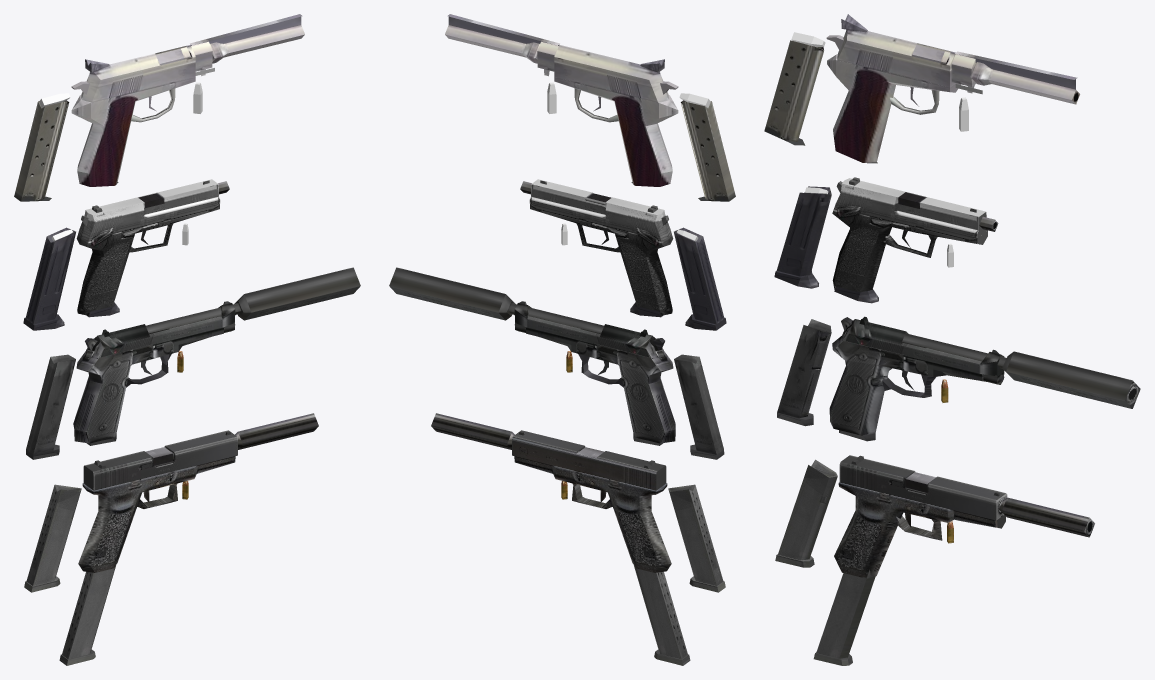
3 views of the same model, side by side, from view 1: azimuth 30°, elevation 25°; view 2: azimuth 150°, elevation 25°; view 3: azimuth 330°, elevation 25° (orthographic). The views are drawn at different scales.
Parts seen in each view (by area): view 1: HCBody, Body, GlockBody&Barrle&Trigger, USPBody, GlockSlide, HCSlide, USPSlide, HCMagFull, Supressor.001, USPMagFull, GlockMagazine`, Magazine (+3 smaller); view 2: HCBody, Body, GlockBody&Barrle&Trigger, USPBody, GlockSlide, HCSlide, USPSlide, HCMagFull, Supressor.001, USPMagFull, GlockMagazine`, Magazine (+3 smaller); view 3: HCBody, Body, GlockBody&Barrle&Trigger, USPBody, GlockSlide, USPSlide, HCSlide, HCMagFull, Supressor.001, USPMagFull, GlockMagazine`, Magazine (+3 smaller).
Boxes of the visible parts, <box> form: HCBody: <box>71,14,304,186</box>; Body: <box>73,303,240,443</box>; GlockBody&Barrle&Trigger: <box>78,447,235,572</box>; USPBody: <box>76,181,229,315</box>; GlockSlide: <box>83,430,237,490</box>; HCSlide: <box>81,44,195,102</box>; USPSlide: <box>80,179,220,234</box>; HCMagFull: <box>14,93,70,201</box>; Supressor.001: <box>234,267,360,320</box>; USPMagFull: <box>23,227,76,330</box>; GlockMagazine`: <box>24,484,81,592</box>; Magazine: <box>26,354,75,459</box>; HCBody: <box>445,14,678,186</box>; Body: <box>509,303,675,443</box>; GlockBody&Barrle&Trigger: <box>514,447,671,572</box>; USPBody: <box>520,181,673,315</box>; GlockSlide: <box>512,430,666,490</box>; HCSlide: <box>554,44,668,102</box>; USPSlide: <box>529,179,669,234</box>; HCMagFull: <box>679,93,735,201</box>; Supressor.001: <box>389,267,515,320</box>; USPMagFull: <box>673,227,726,330</box>; GlockMagazine`: <box>668,484,725,592</box>; Magazine: <box>674,354,724,459</box>; HCBody: <box>827,44,1079,162</box>; Body: <box>829,333,1006,435</box>; GlockBody&Barrle&Trigger: <box>834,472,1002,577</box>; USPBody: <box>832,192,998,292</box>; GlockSlide: <box>839,455,1007,528</box>; USPSlide: <box>836,177,987,244</box>; HCSlide: <box>837,14,956,87</box>; HCMagFull: <box>764,32,825,145</box>; Supressor.001: <box>1002,351,1140,408</box>; USPMagFull: <box>774,186,831,288</box>; GlockMagazine`: <box>775,459,837,567</box>; Magazine: <box>777,319,831,426</box>.
Size of the model in its own units: 4.75 by 8.04 by 0.3586.
25 materials, 21 textured.
